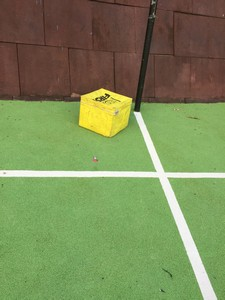cube: (80, 88, 133, 141)
